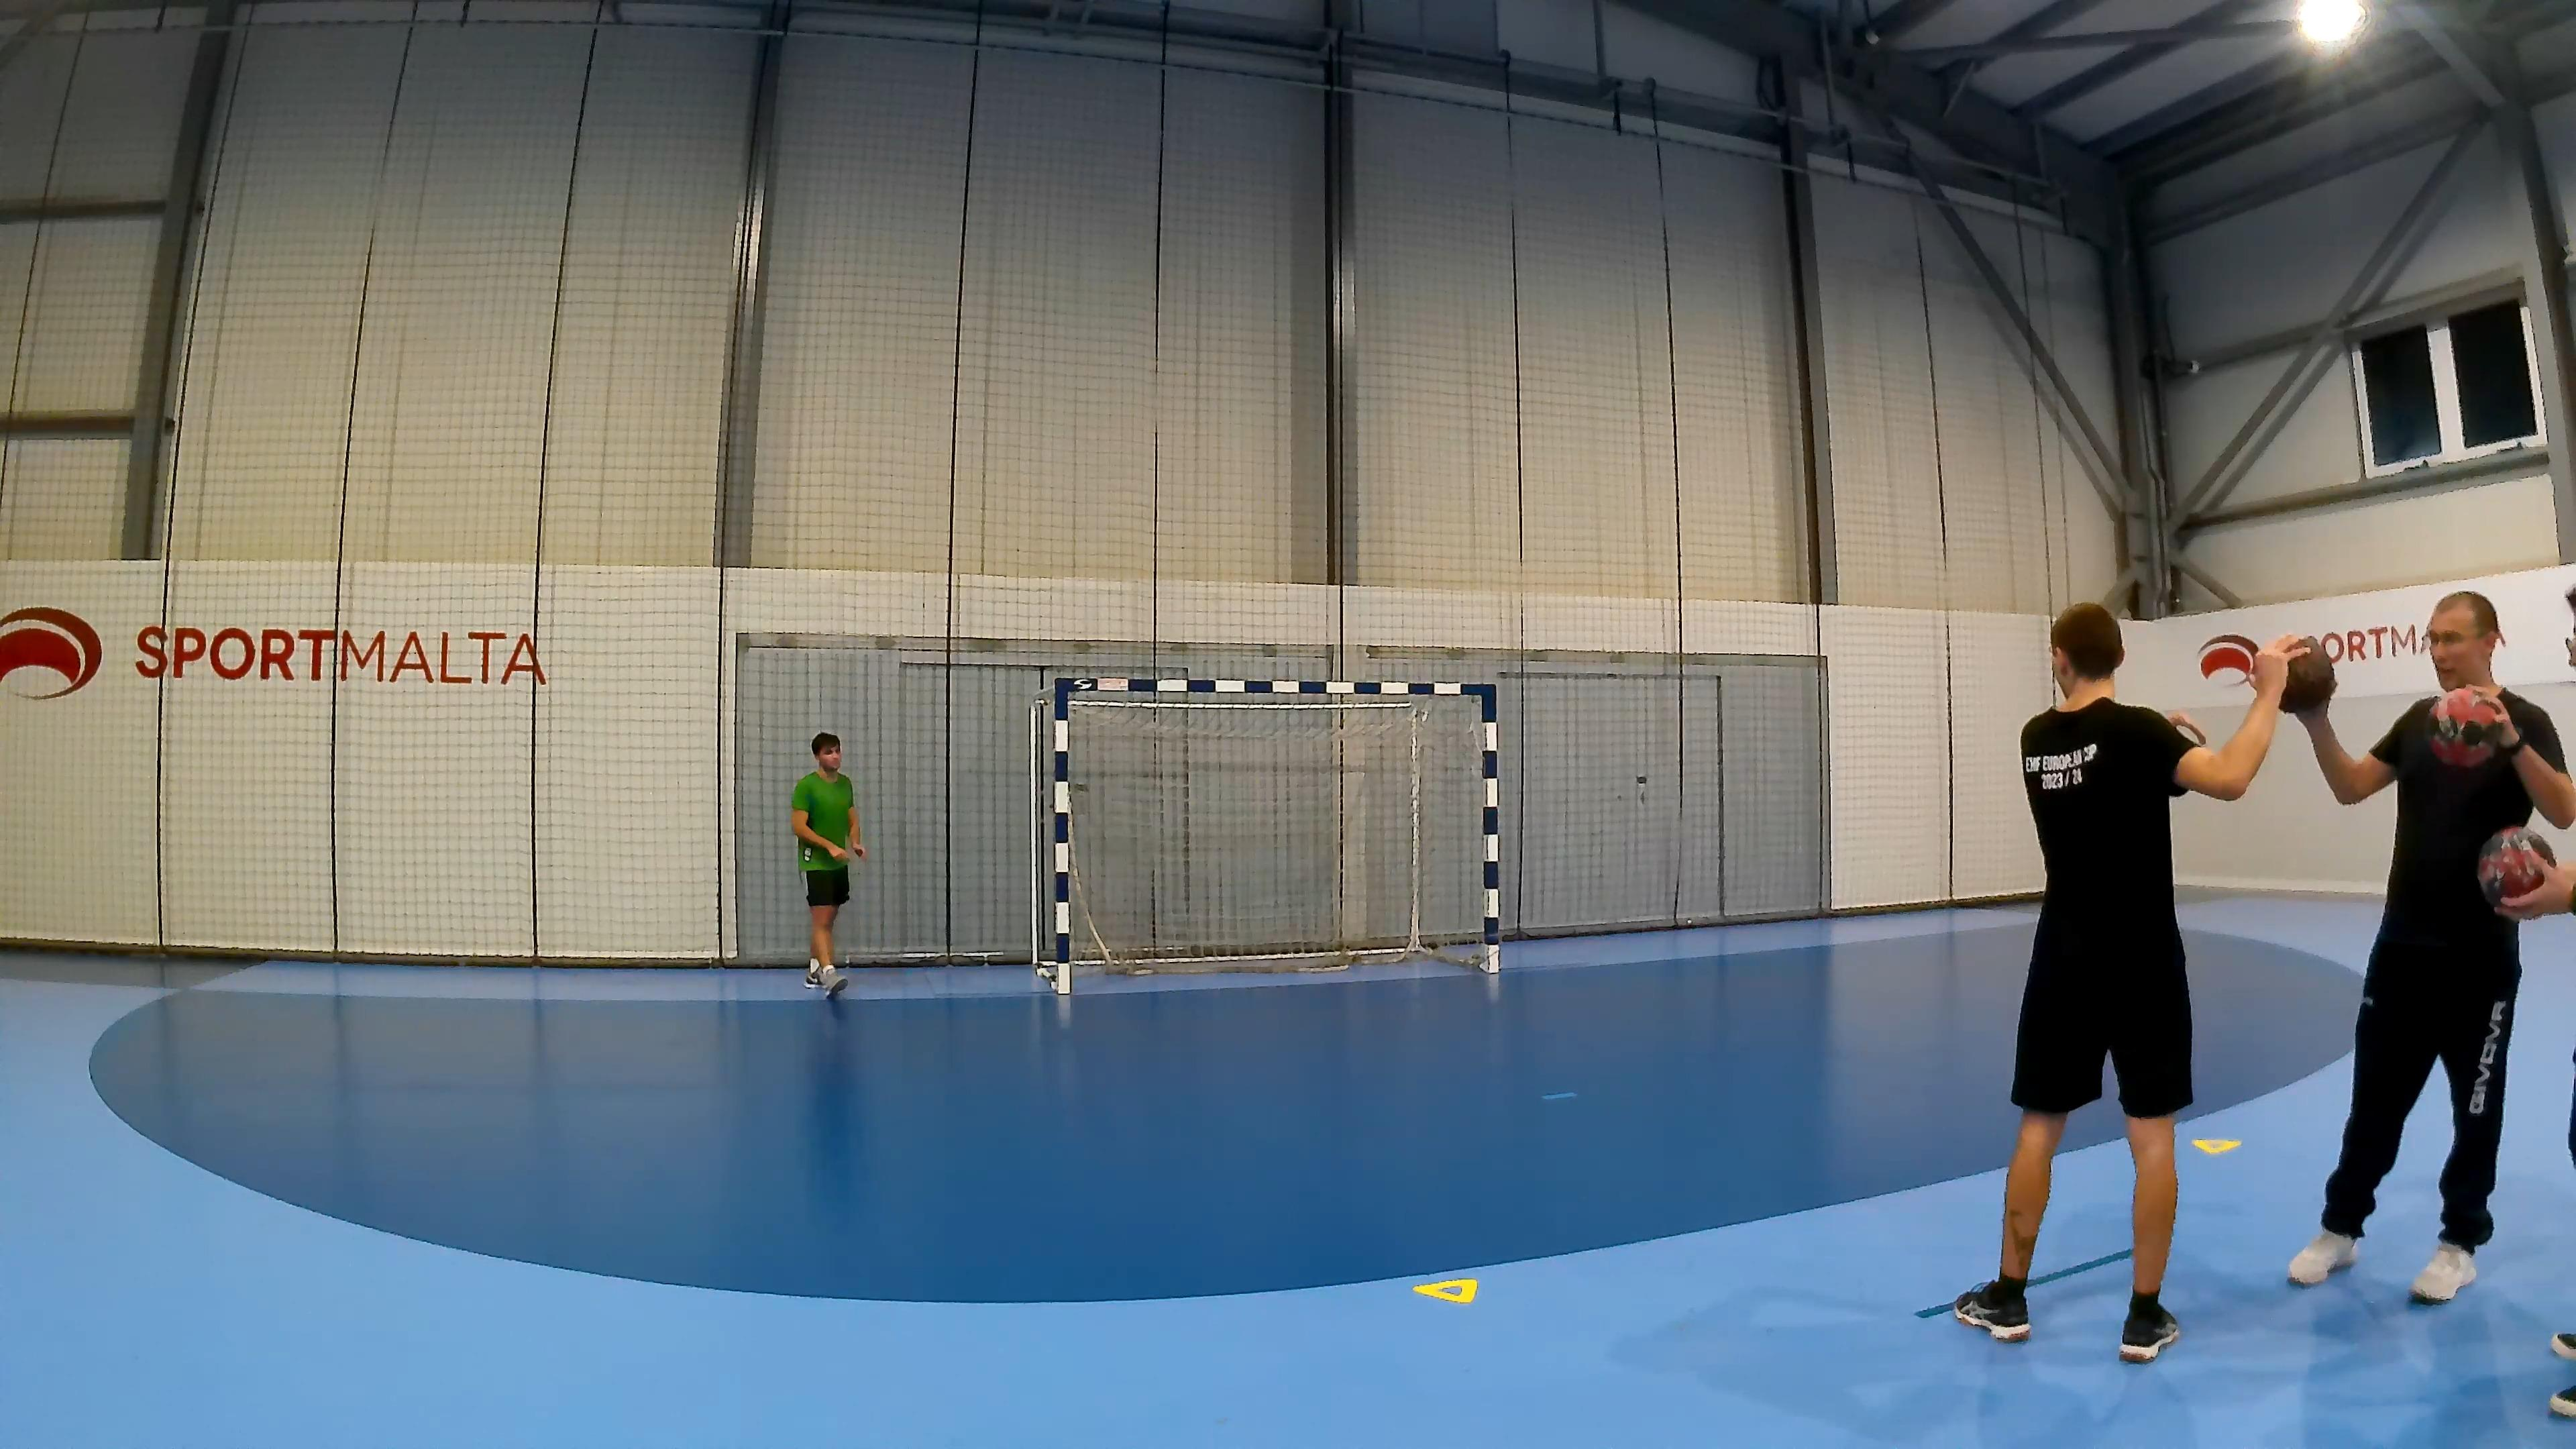handball: (2475, 824, 2557, 908), (2427, 685, 2505, 766), (2256, 635, 2337, 713)
